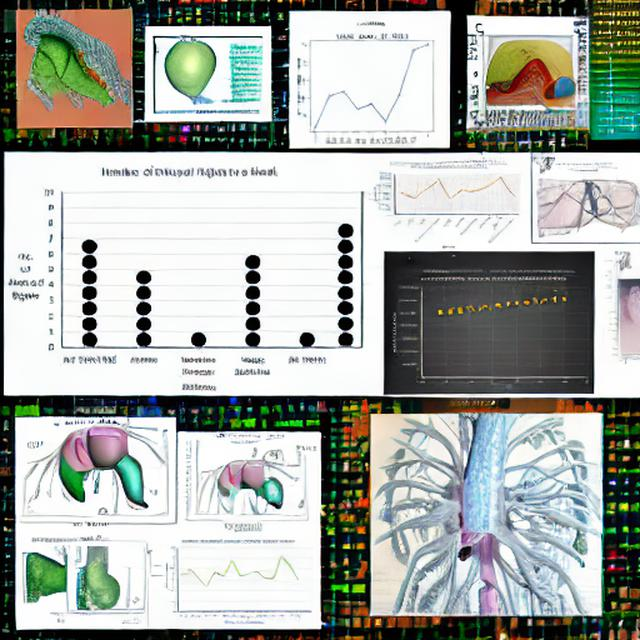Graph: (4, 161, 334, 393), (392, 274, 594, 393), (290, 26, 449, 145), (161, 536, 315, 628), (370, 159, 522, 250)
